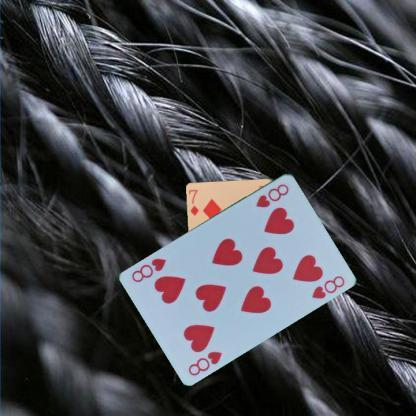7d: (186, 187, 200, 217)
8h: (253, 180, 291, 209), (186, 348, 223, 377)
